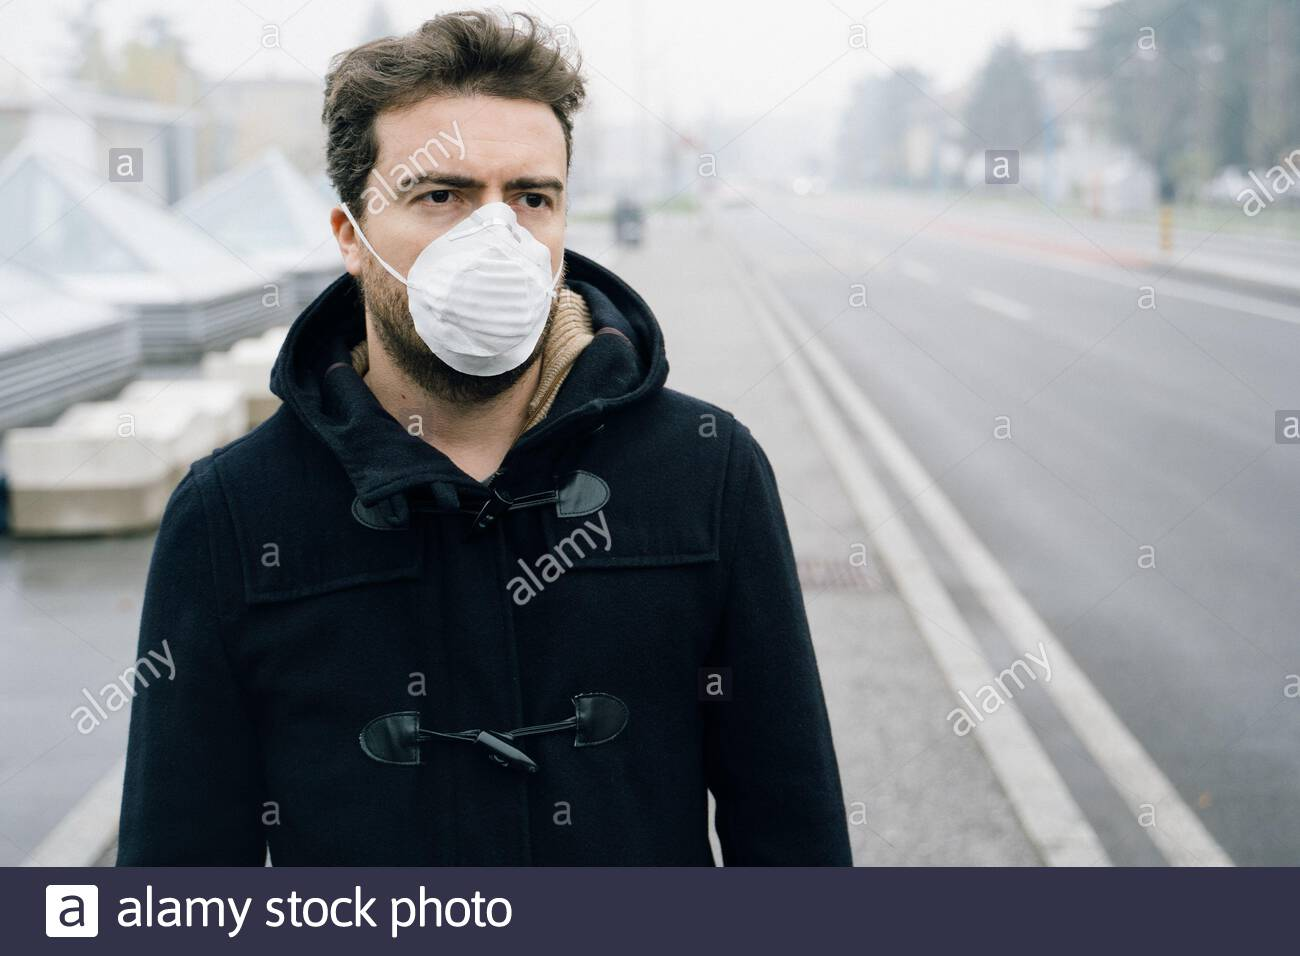with_mask: (332, 79, 594, 386)
